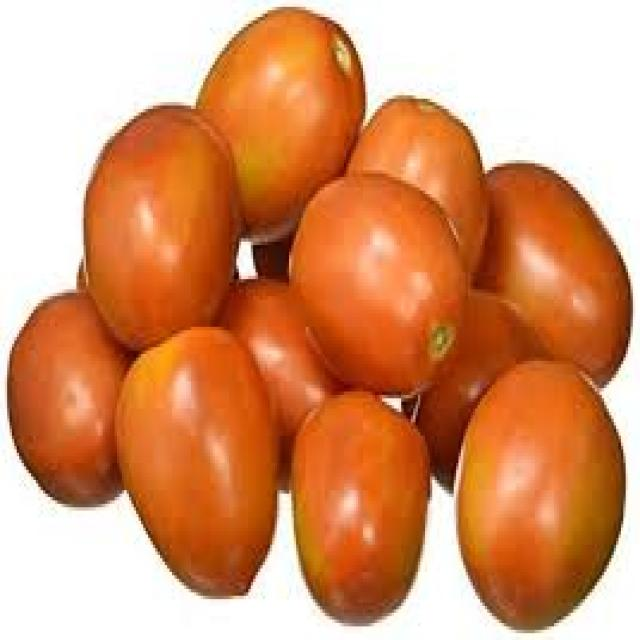Fresh_tomato: (68, 108, 243, 328), (485, 355, 625, 623), (305, 175, 455, 385), (130, 364, 266, 592), (300, 397, 428, 624)
